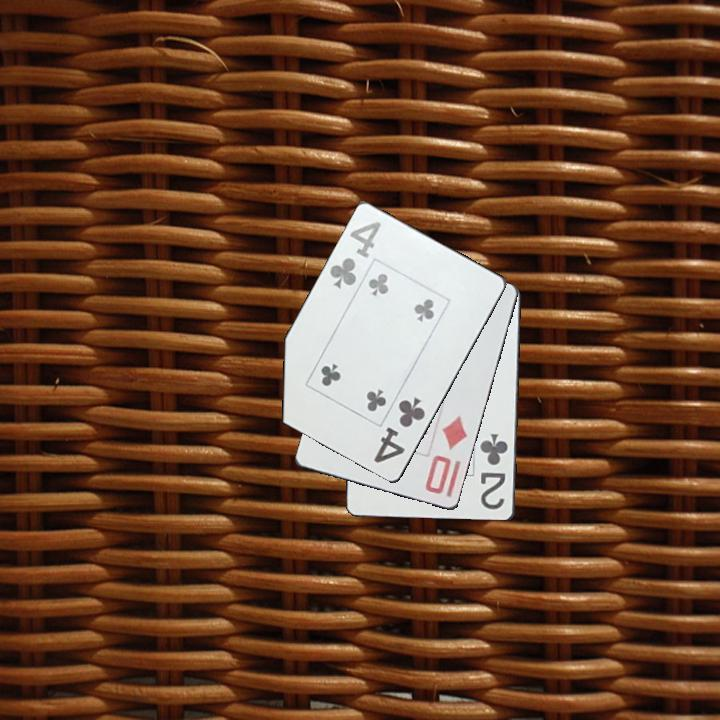2c: (477, 430, 511, 513)
4c: (370, 393, 428, 467), (326, 218, 384, 292)
Td: (422, 412, 470, 498)
